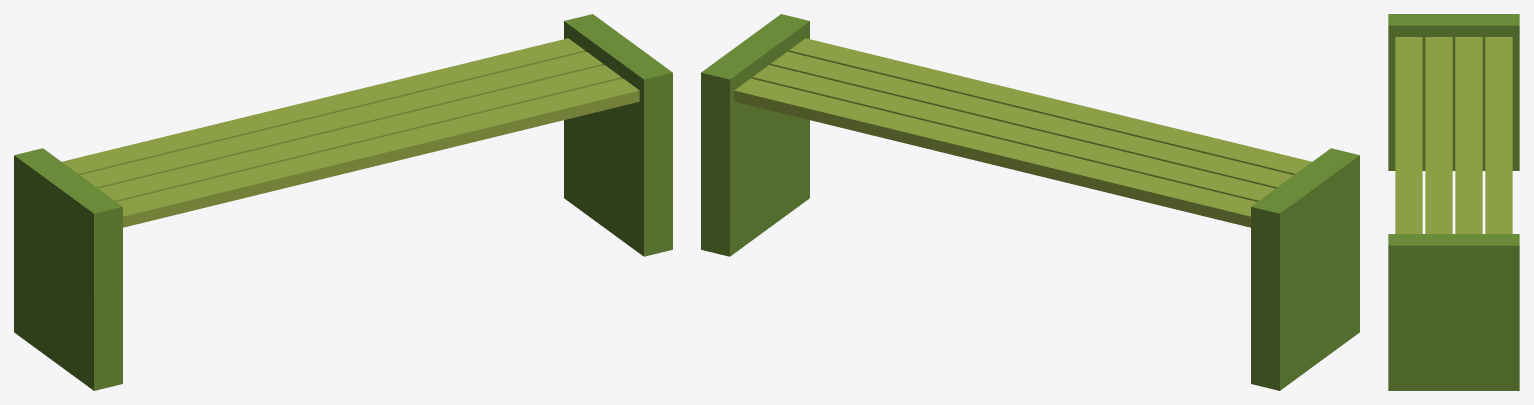
The model's file is Bench_04.fbx.
3 renders of one model, left to right at view 1: azimuth 30°, elevation 25°; view 2: azimuth 150°, elevation 25°; view 3: azimuth 270°, elevation 25°, orthographic. The views are drawn at different scales.
Visible parts, largest first — view 1: Bench_04; view 2: Bench_04; view 3: Bench_04.
Boxes of the visible parts, left/top/right/bottom form: Bench_04: left=14, top=14, right=672, bottom=390; Bench_04: left=701, top=14, right=1359, bottom=390; Bench_04: left=1388, top=14, right=1519, bottom=390.
Bounding box in the file's own units: 1.71 × 0.5 × 0.4095.
